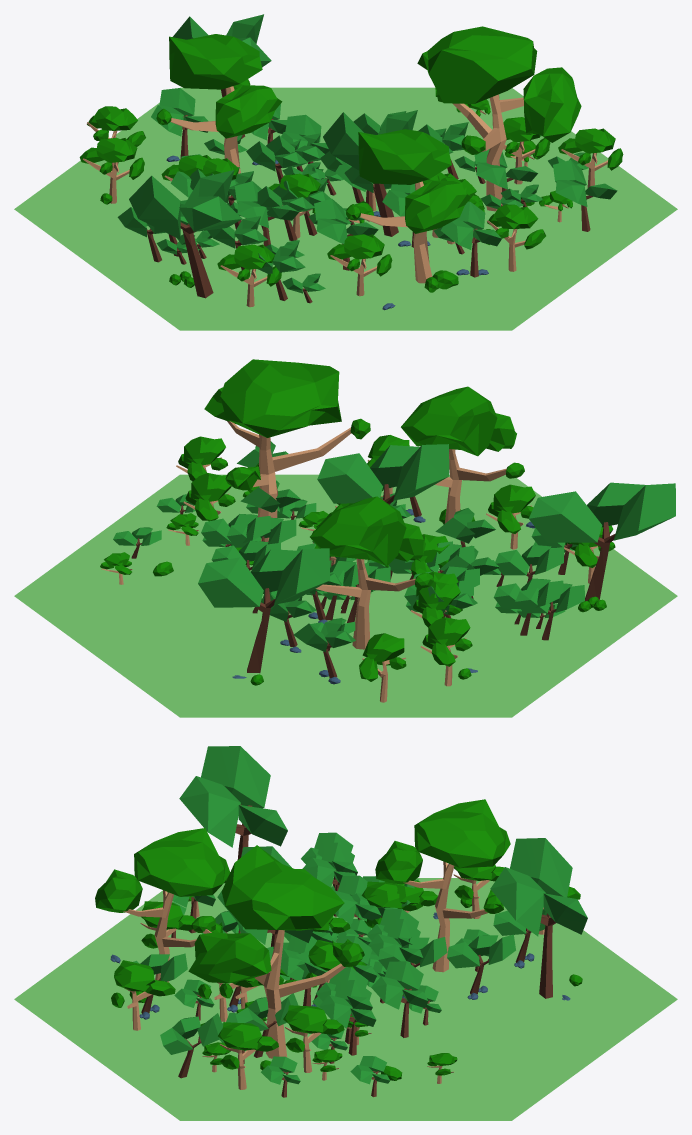
Rendered from Ressource Bois.fbx.
3 views of the same model, one above another, from view 1: azimuth 30°, elevation 25°; view 2: azimuth 150°, elevation 25°; view 3: azimuth 270°, elevation 25° (orthographic).
Visible parts, largest first — view 1: Cylinder, Icokugel.001, Icokugel.008, Icokugel, Cube.047, Cube.026, Cube.018, Icokugel.013, Icokugel.021, Icokugel.027, Icokugel.010, Cube.057 (+24 smaller); view 2: Cylinder, Icokugel.001, Icokugel, Cube.047, Icokugel.008, Cube.010, Cube.026, Icokugel.013, Icokugel.029, Icokugel.021, Cube.049, Icokugel.003 (+20 smaller); view 3: Cylinder, Icokugel.001, Icokugel, Icokugel.008, Cube.047, Cube.010, Cube.019, Cube.027, Icokugel.023, Icokugel.003, Icokugel.027, Cube.034 (+23 smaller).
Boxes of the visible parts, x1=… form: Cylinder: x1=14, y1=87, x2=677, y2=330; Icokugel.001: x1=417, y1=26, x2=581, y2=211; Icokugel.008: x1=346, y1=129, x2=471, y2=283; Icokugel: x1=156, y1=34, x2=282, y2=173; Cube.047: x1=129, y1=170, x2=242, y2=298; Cube.026: x1=323, y1=110, x2=417, y2=236; Cube.018: x1=440, y1=201, x2=501, y2=277; Icokugel.013: x1=79, y1=137, x2=144, y2=203; Icokugel.021: x1=327, y1=234, x2=392, y2=296; Icokugel.027: x1=558, y1=128, x2=623, y2=187; Icokugel.010: x1=217, y1=244, x2=281, y2=307; Cube.057: x1=553, y1=160, x2=617, y2=231; Cylinder: x1=14, y1=474, x2=677, y2=717; Icokugel.001: x1=204, y1=359, x2=370, y2=541; Icokugel: x1=310, y1=496, x2=433, y2=649; Cube.047: x1=528, y1=482, x2=675, y2=601; Icokugel.008: x1=401, y1=386, x2=524, y2=523; Cube.010: x1=198, y1=548, x2=329, y2=673; Cube.026: x1=317, y1=444, x2=449, y2=560; Icokugel.013: x1=420, y1=617, x2=472, y2=686; Icokugel.029: x1=359, y1=633, x2=406, y2=702; Icokugel.021: x1=486, y1=484, x2=535, y2=549; Cube.049: x1=495, y1=545, x2=563, y2=582; Icokugel.003: x1=183, y1=473, x2=235, y2=521; Cylinder: x1=14, y1=878, x2=677, y2=1120; Icokugel.001: x1=188, y1=845, x2=364, y2=1058; Icokugel: x1=375, y1=799, x2=510, y2=972; Icokugel.008: x1=95, y1=828, x2=230, y2=982; Cube.047: x1=179, y1=746, x2=287, y2=859; Cube.010: x1=490, y1=838, x2=587, y2=998; Cube.019: x1=371, y1=961, x2=428, y2=1037; Cube.027: x1=447, y1=934, x2=515, y2=999; Icokugel.023: x1=111, y1=960, x2=175, y2=1030; Icokugel.003: x1=283, y1=1005, x2=344, y2=1072; Icokugel.027: x1=218, y1=1022, x2=278, y2=1089; Cube.034: x1=319, y1=980, x2=376, y2=1055.
Bounding box in the file's own units: 1801 × 616 × 2000.
